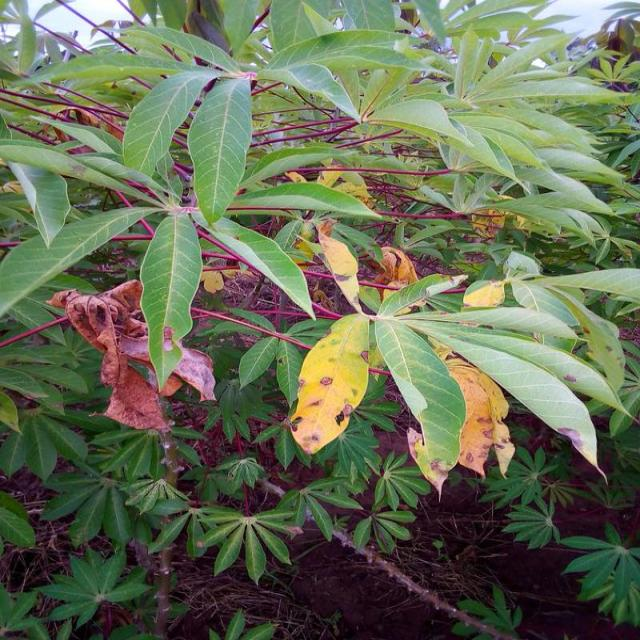cassava leaf: (288, 312, 371, 456), (139, 211, 204, 393), (187, 74, 254, 225)
